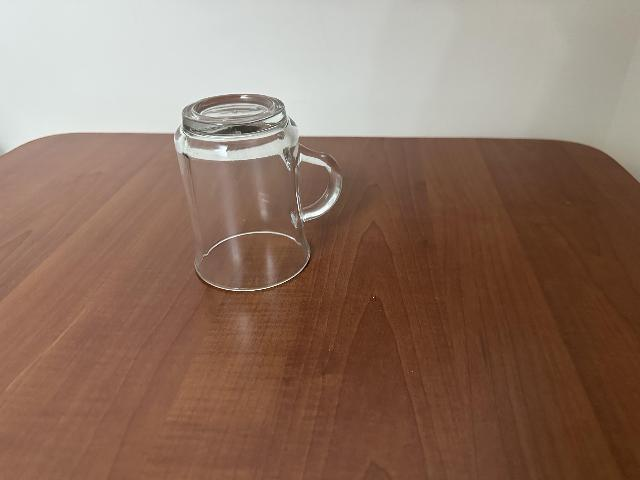Cam: (162, 92, 343, 298)
